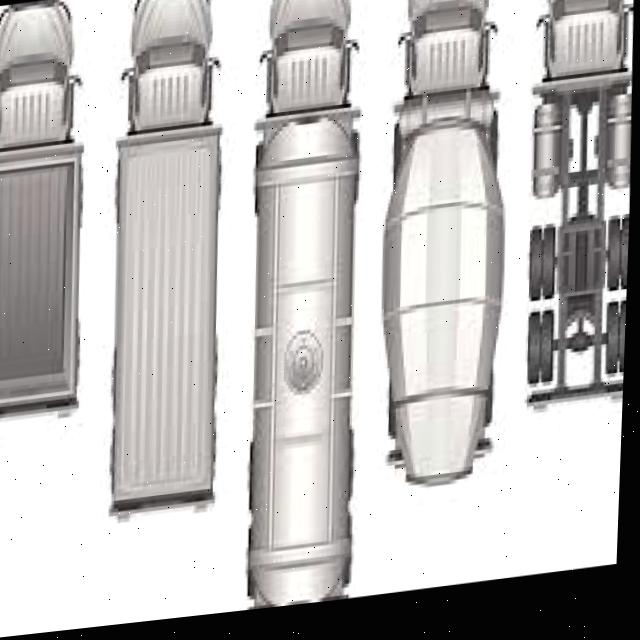truck: (101, 0, 238, 531), (0, 0, 100, 434)
